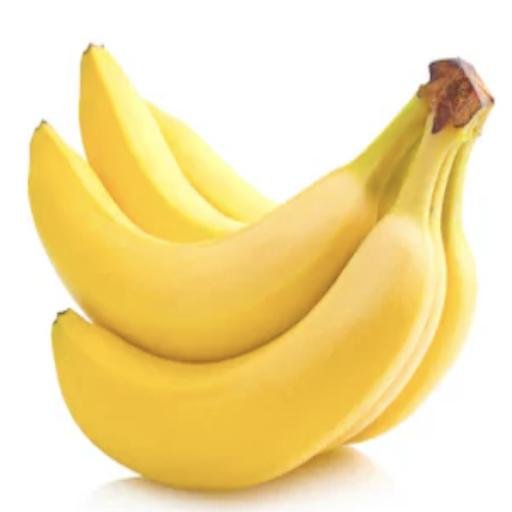banana: (53, 115, 465, 488), (29, 97, 428, 361), (327, 61, 493, 449), (348, 70, 493, 442), (328, 147, 458, 449), (80, 46, 243, 241), (148, 104, 275, 223)
